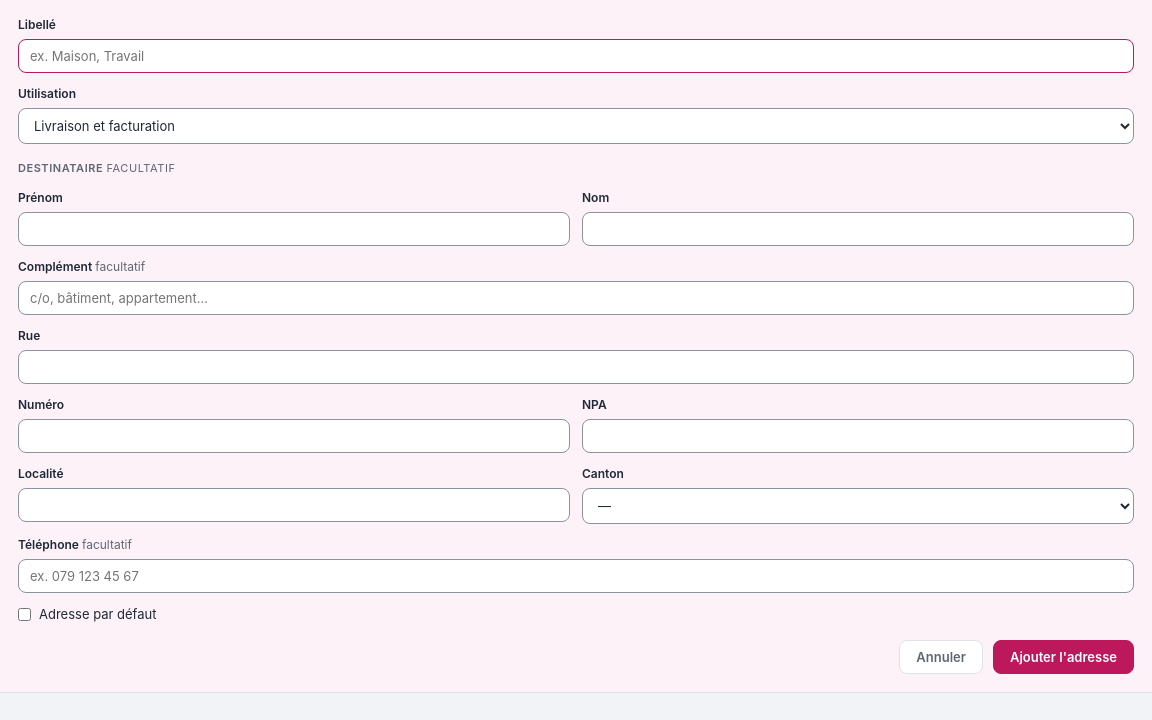
Test: CustomerAddressForm › refuse un NPA hors de Suisse (Liechtenstein) : livraison en Suisse uniquement
Type "Travail" into the field labelled "Libellé" at point(576, 56), box [18,39,1134,73]
Type "Place de la Gare" into the field labelled "Rue" at point(576, 366), box [18,350,1134,384]
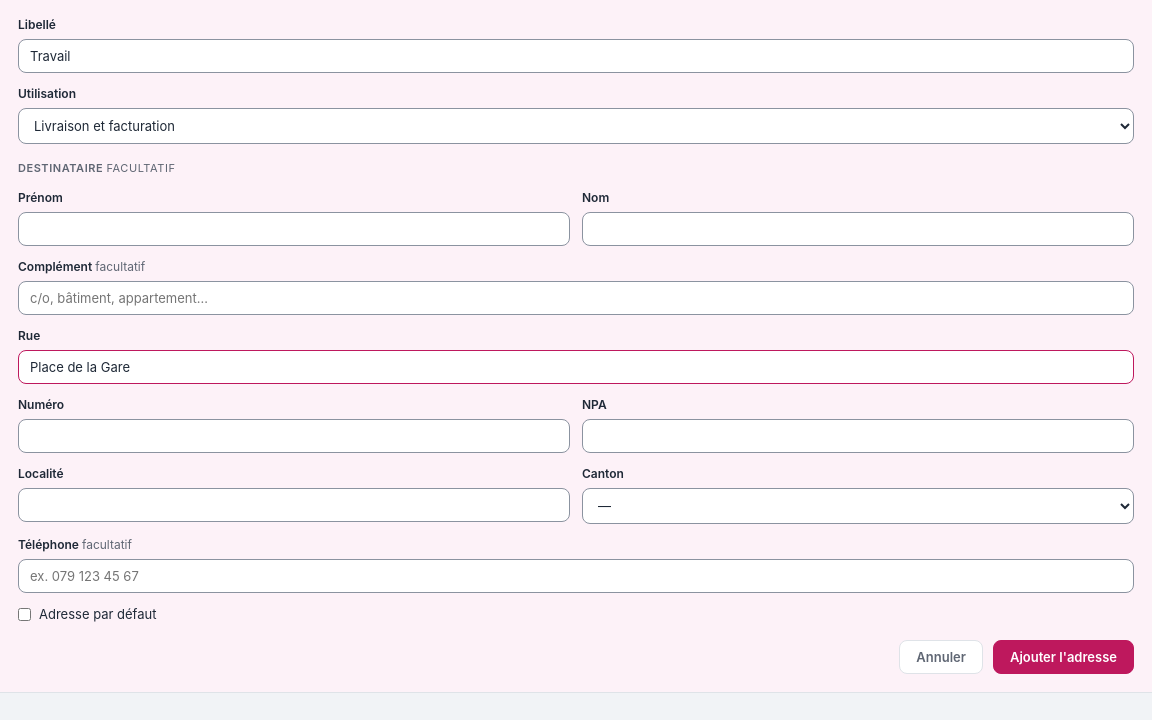
Type "1" into the field labelled "Numéro" at point(294, 436), box [18,418,570,452]
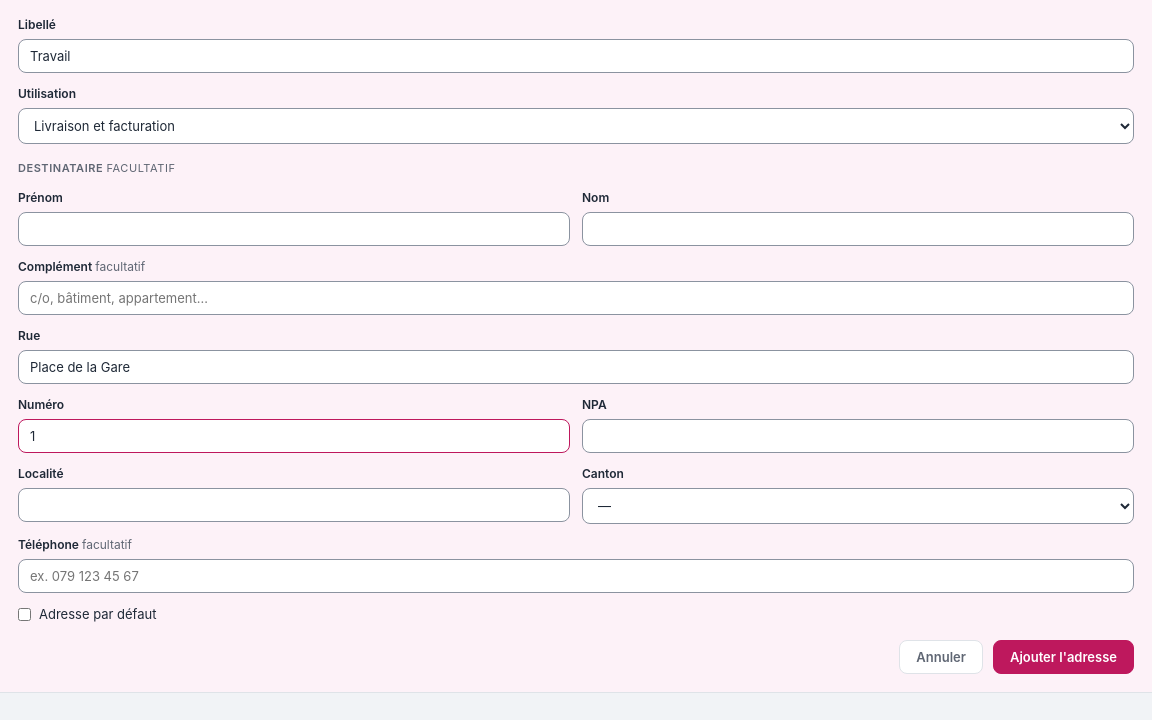
Type "1003" into the field labelled "NPA" at point(858, 436), box [582,418,1134,452]
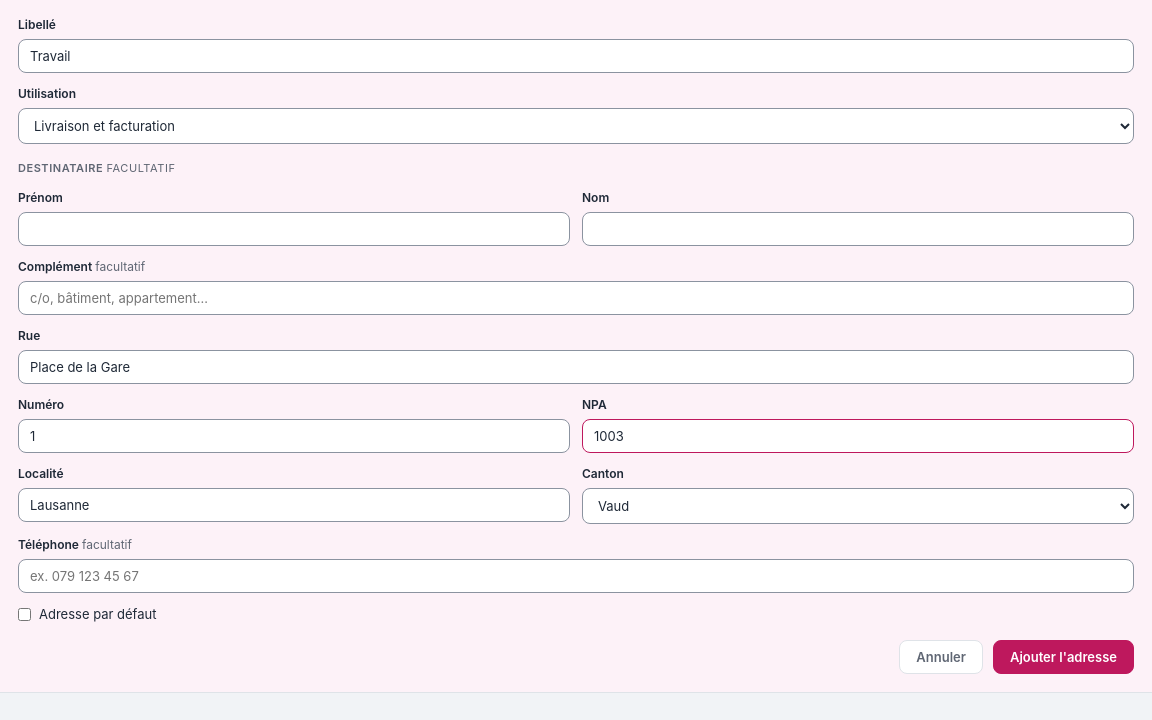
Result: the field labelled "Localité" holds "Lausanne" at [18,488,570,522]
Select "Vaud" in the dropdown labelled "Canton" at point(858, 506), box [582,488,1134,524]
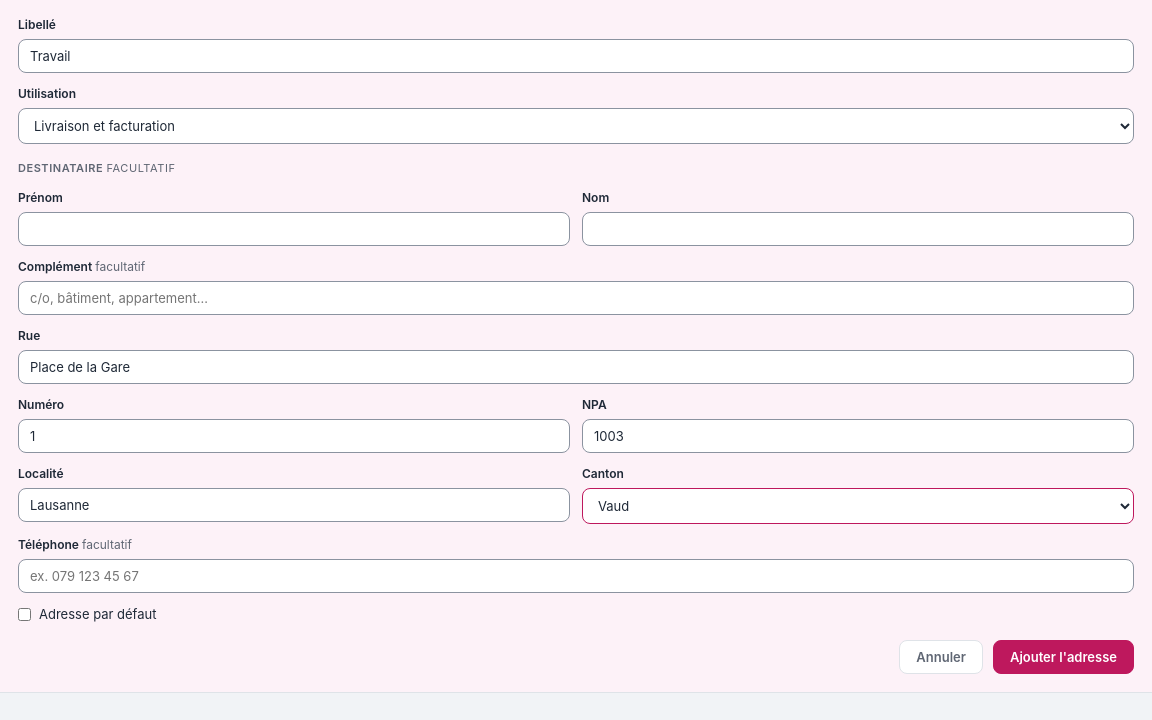
Replace the text in the field labelled "NPA" with "9490" at point(858, 436), box [582,418,1134,452]
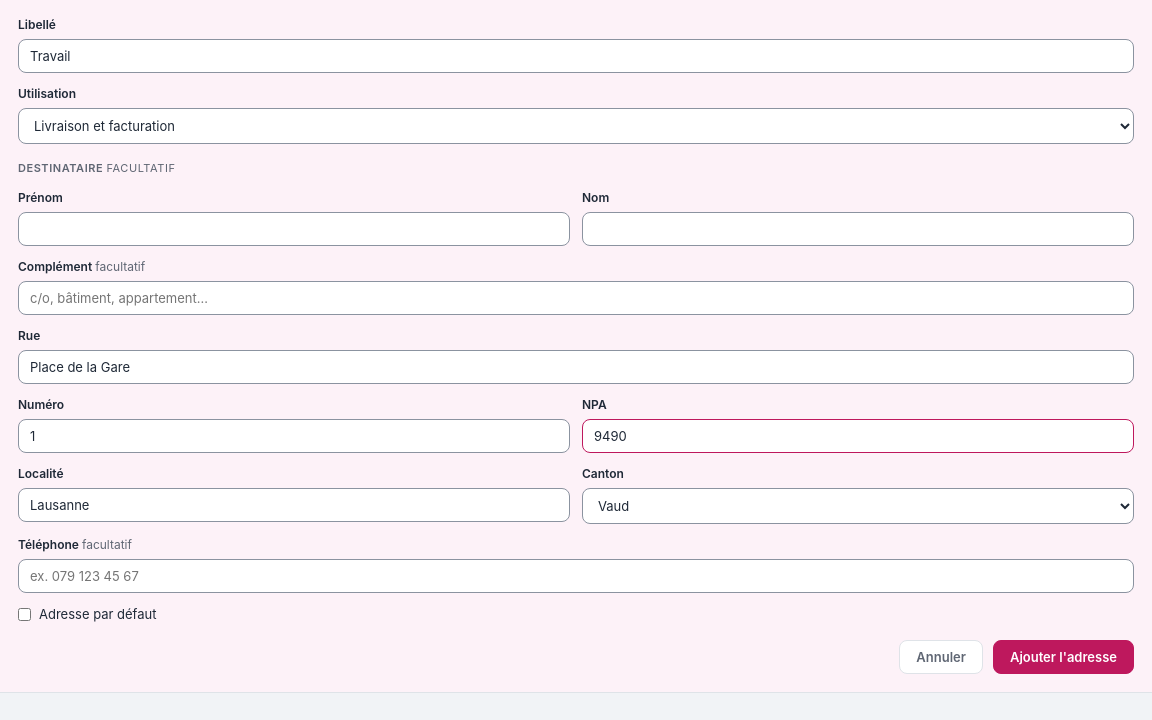
Click the button "Ajouter l'adresse" at point(1063, 657), box [993,640,1134,674]
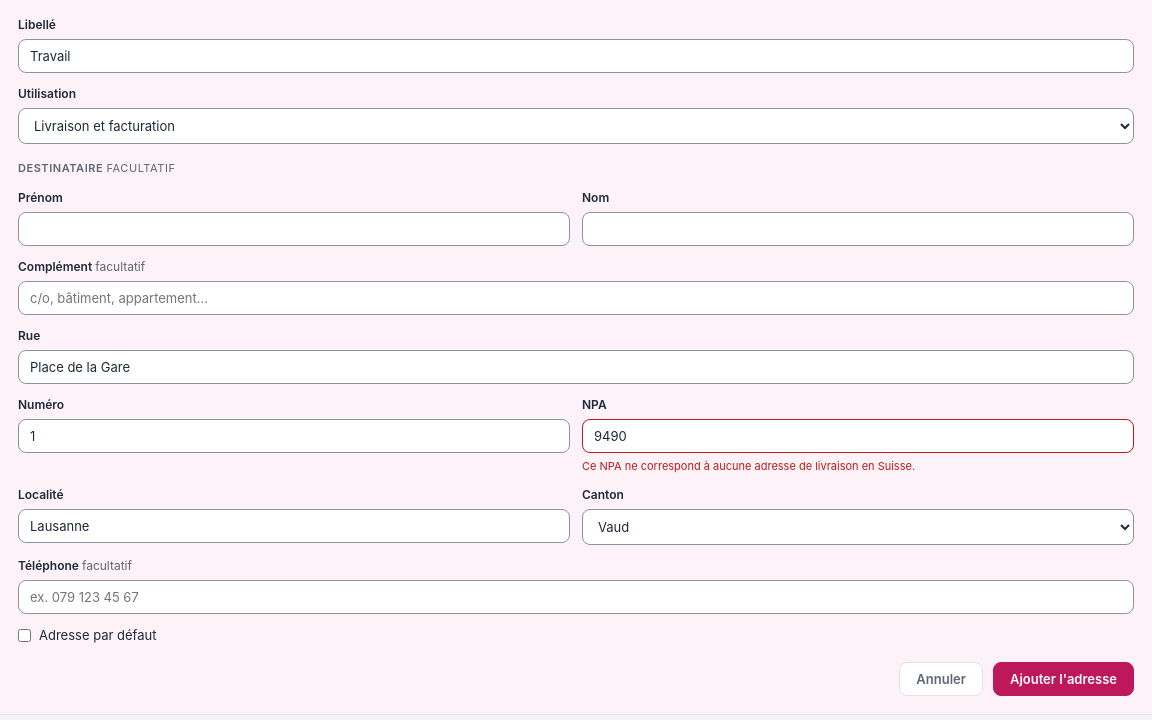
Result: the text "Ce NPA ne correspond à aucune adresse de livraison en Suisse." is shown at [582,458,915,472]
